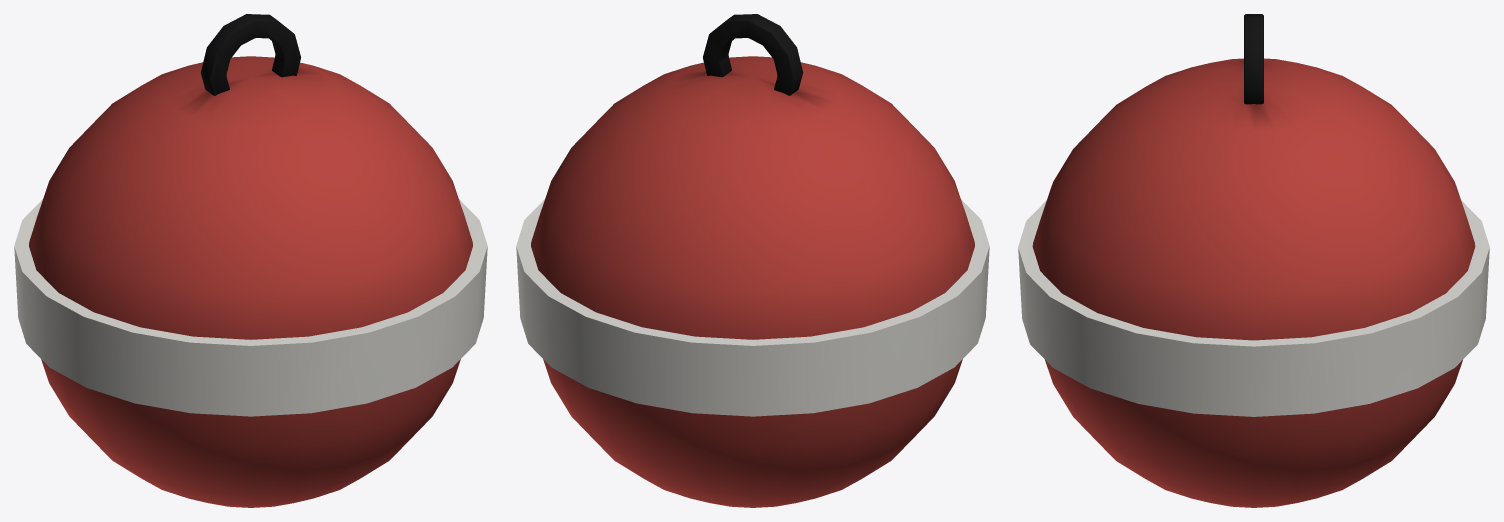
Rendered from buoy.glb.
3 renders of one model, left to right at view 1: azimuth 30°, elevation 25°; view 2: azimuth 150°, elevation 25°; view 3: azimuth 270°, elevation 25°, orthographic.
Parts seen in each view (by area): view 1: boat_paint_red, boat_paint_white, boat_iron; view 2: boat_paint_red, boat_paint_white, boat_iron; view 3: boat_paint_red, boat_paint_white, boat_iron.
Part boxes in pixels (bbox=[...]): boat_paint_red: bbox=[29, 56, 472, 507]; boat_paint_white: bbox=[14, 199, 487, 416]; boat_iron: bbox=[200, 14, 300, 95]; boat_paint_red: bbox=[531, 56, 974, 507]; boat_paint_white: bbox=[516, 199, 989, 416]; boat_iron: bbox=[703, 14, 803, 95]; boat_paint_red: bbox=[1032, 58, 1475, 507]; boat_paint_white: bbox=[1018, 200, 1489, 416]; boat_iron: bbox=[1244, 14, 1263, 104].
Bounding box in the file's own units: 0.356 × 0.39 × 0.356.
3 materials, 1 textured.
